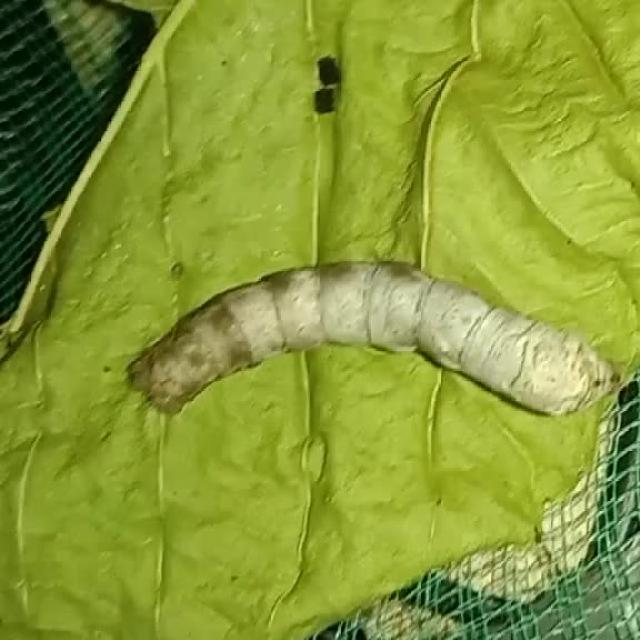Grasserie: (113, 235, 638, 482)
